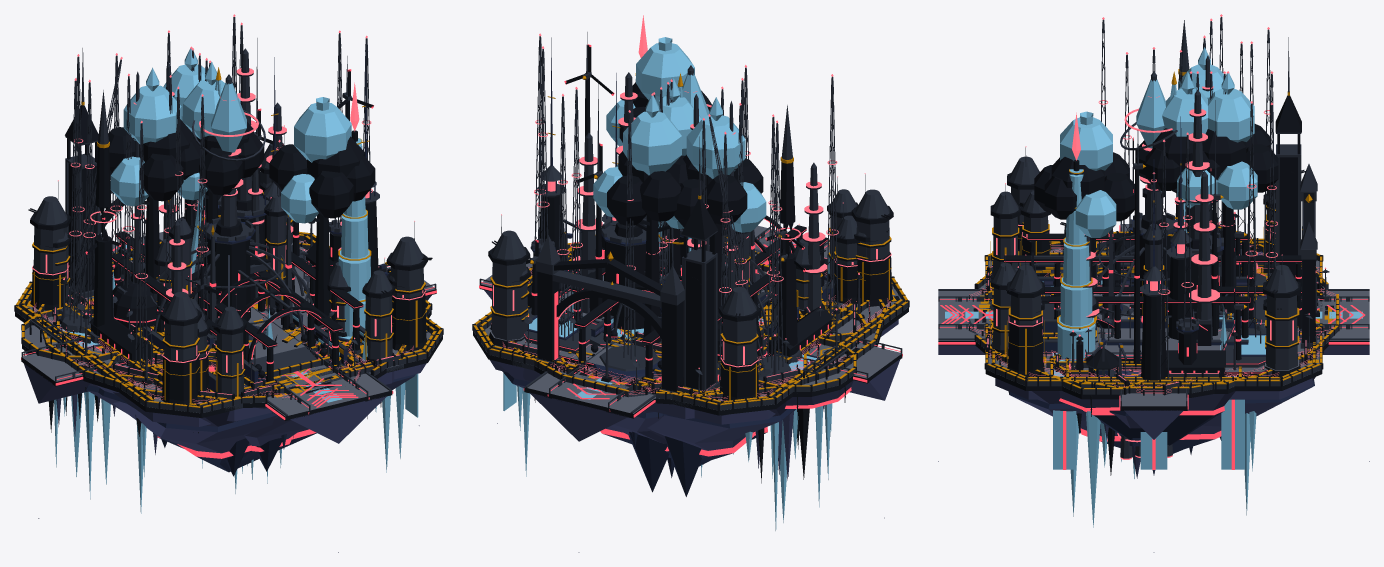
The model's file is sky_citadel_lockdown_structure.fbx.
The picture shows the model from 3 angles, left to right: view 1: azimuth 30°, elevation 25°; view 2: azimuth 150°, elevation 25°; view 3: azimuth 270°, elevation 25°; orthographic projection. The views are drawn at different scales.
Parts seen in each view (by area): view 1: chunk_spire_court__lockdown, chunk_sky_tree_grove__lockdown, chunk_boss_clearing__lockdown, chunk_archive__lockdown, chunk_aether_springs__lockdown, chunk_path_colonnade__lockdown, chunk_spire_court_b__lockdown, chunk_parade_ground__lockdown, chunk_side_garden__lockdown, chunk_garden_terrace__lockdown, chunk_path_straight__lockdown, chunk_crossroads__lockdown (+20 smaller); view 2: chunk_spire_court__lockdown, chunk_garden_terrace__lockdown, chunk_sky_tree_grove__lockdown, chunk_archive__lockdown, chunk_boss_clearing__lockdown, chunk_parade_ground__lockdown, chunk_path_colonnade__lockdown, chunk_armory__lockdown, chunk_aether_springs__lockdown, chunk_spire_court_b__lockdown, chunk_entry__lockdown, chunk_path_long_span__lockdown (+15 smaller); view 3: chunk_spire_court__lockdown, chunk_garden_terrace__lockdown, chunk_aether_springs__lockdown, chunk_boss_clearing__lockdown, chunk_sky_tree_grove__lockdown, chunk_archive__lockdown, chunk_armory__lockdown, chunk_spire_court_b__lockdown, chunk_side_garden__lockdown, chunk_parade_ground__lockdown, chunk_crossroads__lockdown, chunk_path_colonnade__lockdown (+17 smaller).
Boxes of the visible parts, box(x1,y1,x2,y2) form: chunk_spire_court__lockdown: box(14, 22, 443, 472); chunk_sky_tree_grove__lockdown: box(62, 67, 404, 473); chunk_boss_clearing__lockdown: box(36, 30, 406, 443); chunk_archive__lockdown: box(65, 48, 400, 421); chunk_aether_springs__lockdown: box(21, 82, 419, 552); chunk_path_colonnade__lockdown: box(38, 78, 360, 476); chunk_spire_court_b__lockdown: box(53, 56, 403, 471); chunk_parade_ground__lockdown: box(20, 14, 437, 426); chunk_side_garden__lockdown: box(149, 61, 356, 390); chunk_garden_terrace__lockdown: box(21, 48, 432, 499); chunk_path_straight__lockdown: box(169, 94, 355, 402); chunk_crossroads__lockdown: box(23, 82, 436, 402); chunk_spire_court__lockdown: box(472, 87, 909, 465); chunk_garden_terrace__lockdown: box(561, 95, 856, 507); chunk_sky_tree_grove__lockdown: box(511, 37, 857, 418); chunk_archive__lockdown: box(512, 136, 850, 434); chunk_boss_clearing__lockdown: box(510, 110, 886, 415); chunk_parade_ground__lockdown: box(478, 94, 902, 424); chunk_path_colonnade__lockdown: box(551, 120, 812, 522); chunk_armory__lockdown: box(527, 131, 869, 496); chunk_aether_springs__lockdown: box(490, 15, 902, 552); chunk_spire_court_b__lockdown: box(512, 32, 870, 492); chunk_entry__lockdown: box(558, 103, 835, 406); chunk_path_long_span__lockdown: box(517, 74, 866, 479); chunk_spire_court__lockdown: box(984, 41, 1369, 453); chunk_garden_terrace__lockdown: box(984, 73, 1323, 527); chunk_aether_springs__lockdown: box(938, 112, 1369, 552); chunk_boss_clearing__lockdown: box(938, 71, 1339, 398); chunk_sky_tree_grove__lockdown: box(991, 47, 1316, 367); chunk_archive__lockdown: box(938, 37, 1369, 361); chunk_armory__lockdown: box(942, 27, 1369, 445); chunk_spire_court_b__lockdown: box(986, 130, 1321, 439); chunk_side_garden__lockdown: box(947, 71, 1232, 328); chunk_parade_ground__lockdown: box(941, 102, 1367, 399); chunk_crossroads__lockdown: box(943, 79, 1369, 439); chunk_path_colonnade__lockdown: box(939, 14, 1368, 336).
Bounding box in the file's own units: 256 × 256 × 256.
